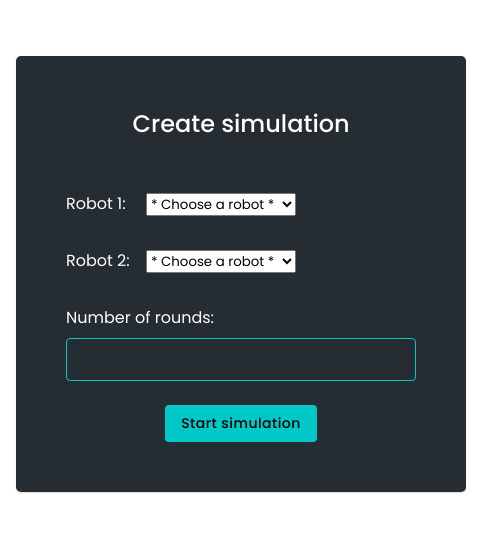
Test: Sim Creation test › 8. New sim with 0 number of rounds
Select "Soyunrobot" in the dropdown with test id "nameRobot1" at (221, 204), box [146,193,296,216]
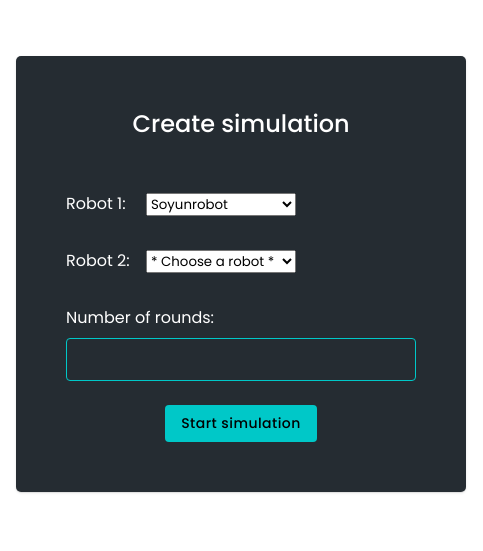
Select "Soyunrobot" in the dropdown with test id "nameRobot2" at (221, 262), box [146,250,296,273]
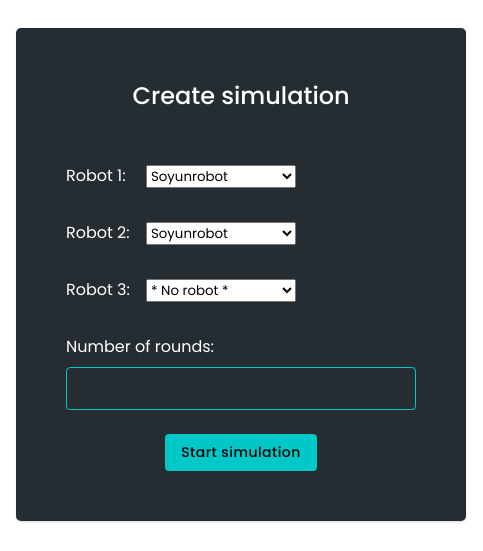
Type "0" into the field with test id "nRounds" at (241, 388), box [66,366,416,410]
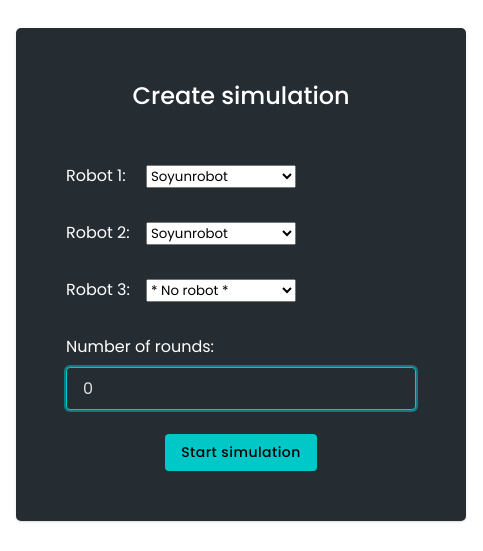
Click the button with test id "submit" at (241, 452), box [165,434,317,470]
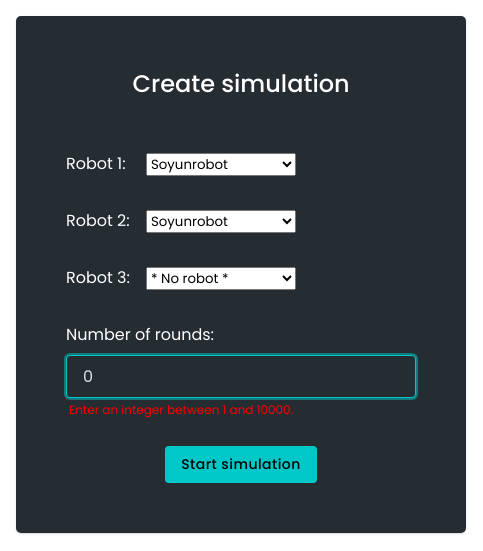
Expected: the text with test id "valNRounds" reads "Enter an integer between 1 and 10000.", [69,400,293,418]
